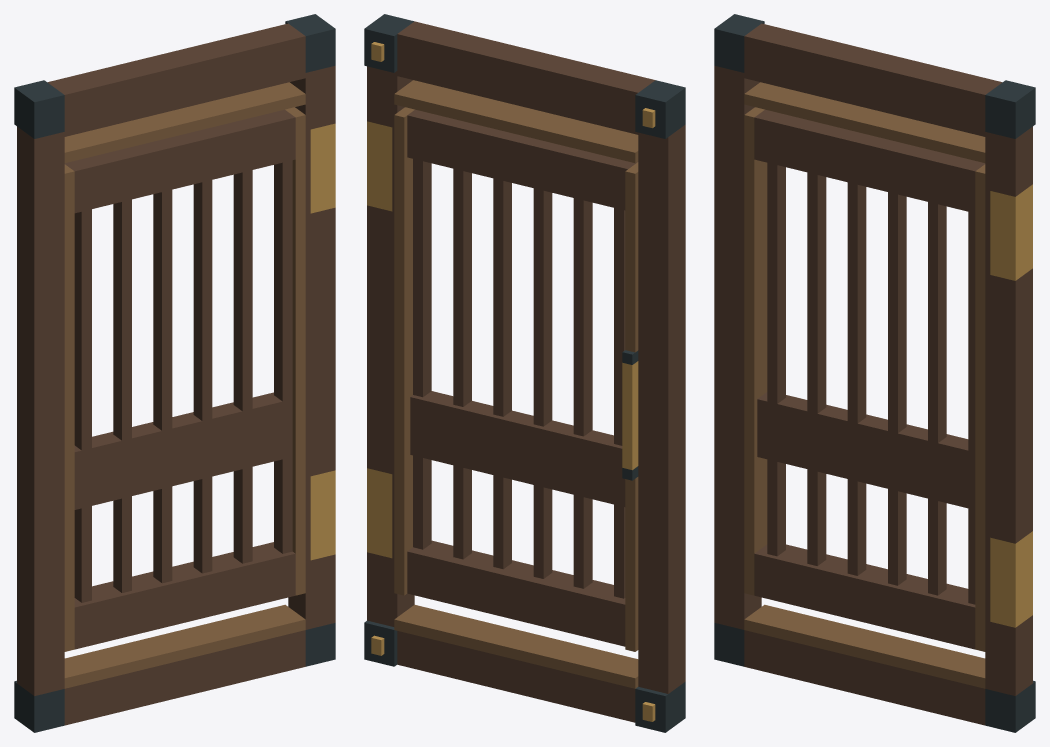
Rendered from BUILT-063.glb.
3 renders of one model, left to right at view 1: azimuth 30°, elevation 25°; view 2: azimuth 150°, elevation 25°; view 3: azimuth 330°, elevation 25°, orthographic.
Parts seen in each view (by area): view 1: 旧门侧展开门扇; view 2: 旧门侧展开门扇; view 3: 旧门侧展开门扇.
Part boxes in pixels (x1,y1,x2,y2): 旧门侧展开门扇: (14,14,335,732); 旧门侧展开门扇: (364,14,685,732); 旧门侧展开门扇: (714,14,1035,732).
Bounding box in the file's own units: 1.2 × 2.4 × 0.16.
4 materials, 4 textured.
